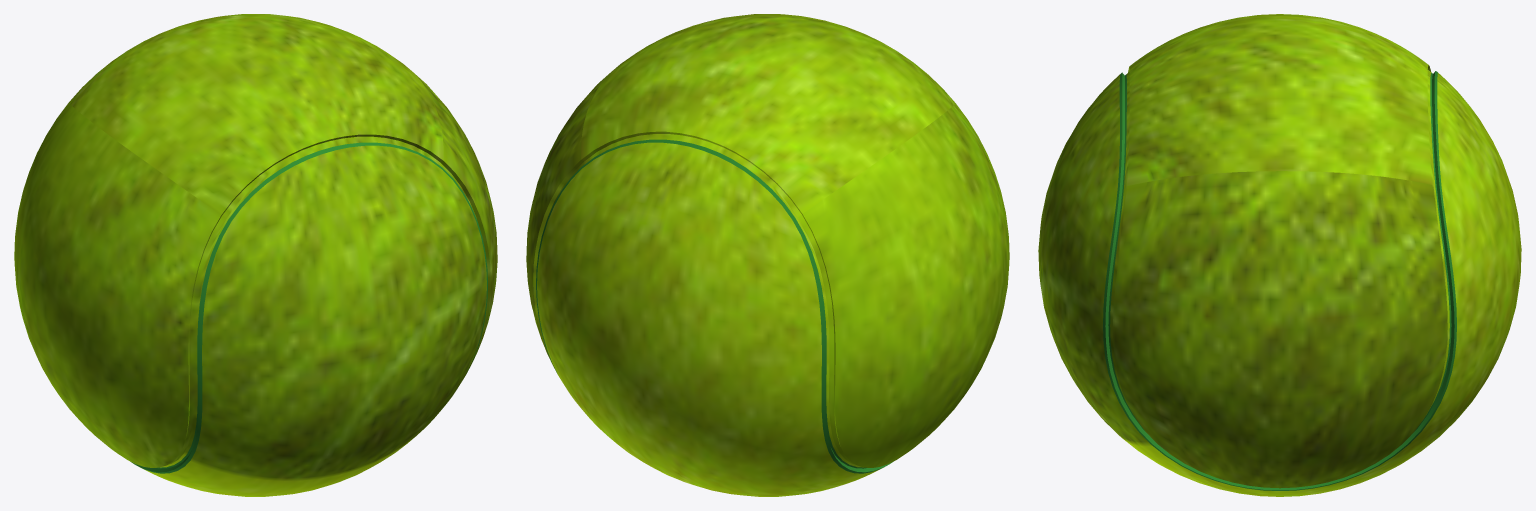
File: Tennisball 1.fbx
The picture shows the model from 3 angles, left to right: view 1: azimuth 30°, elevation 25°; view 2: azimuth 150°, elevation 25°; view 3: azimuth 270°, elevation 25°; orthographic projection.
Parts seen in each view (by area): view 1: pasted__pCube3; view 2: pasted__pCube3; view 3: pasted__pCube3.
Boxes of the visible parts, x1,y1,x2,y2 form: pasted__pCube3: (14,14,497,496); pasted__pCube3: (526,14,1009,496); pasted__pCube3: (1038,14,1521,496).
Bounding box in the file's own units: 2.2 × 2.2 × 2.2.
2 materials, 1 textured.
